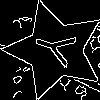Y: (30, 25, 87, 72)
